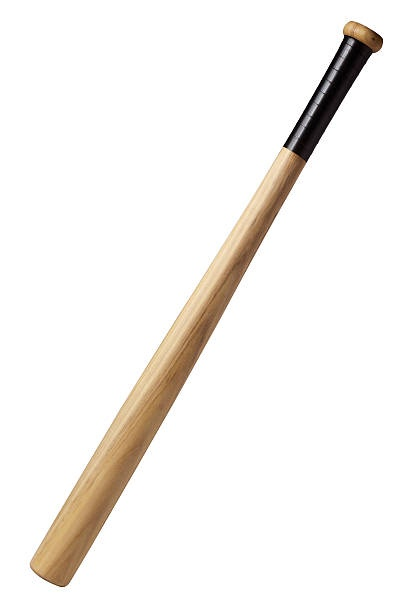bita: (32, 24, 386, 586)
